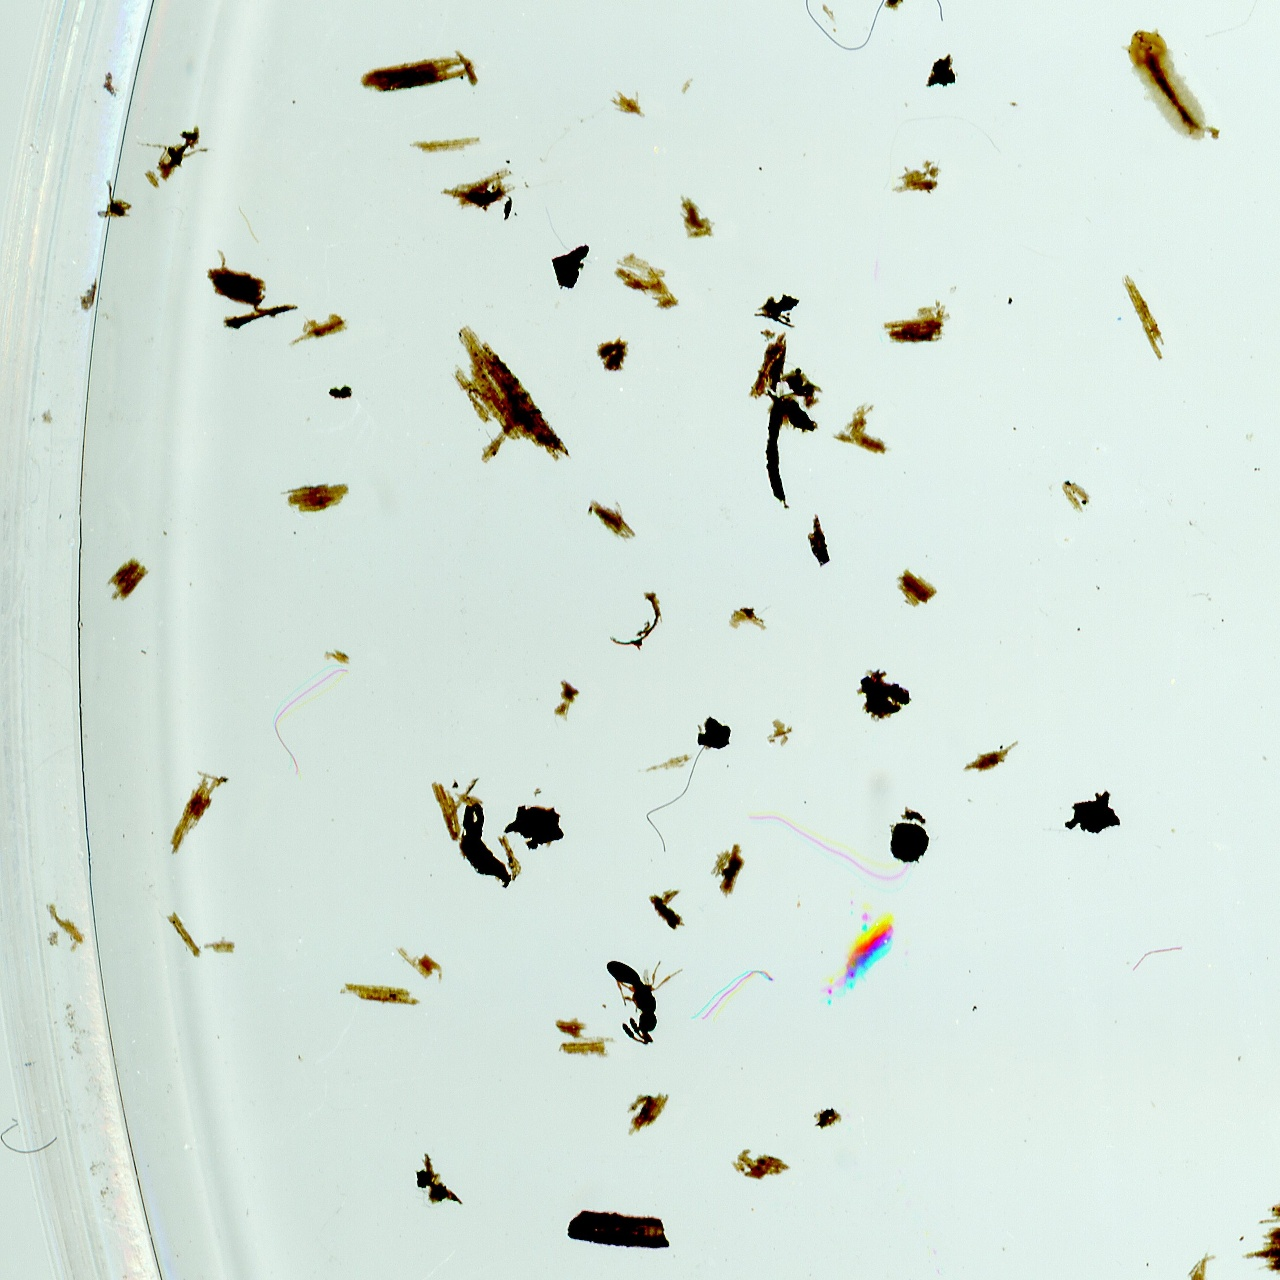arthropod: (1105, 11, 1226, 164), (802, 901, 918, 1020), (594, 933, 708, 1054)
